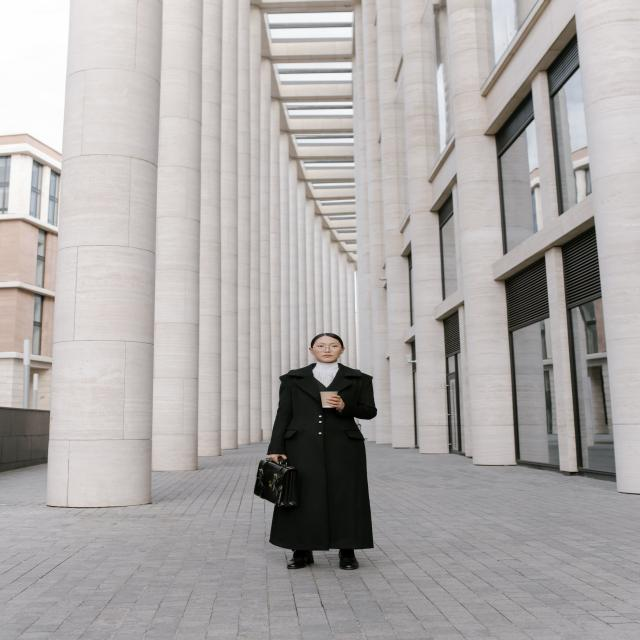cup: (318, 388, 343, 408)
